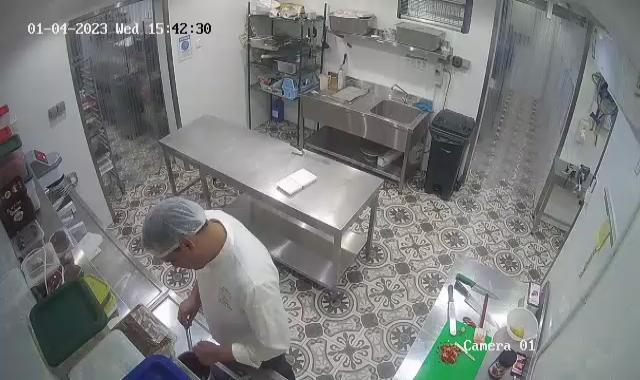hairnet: (140, 198, 210, 258)
